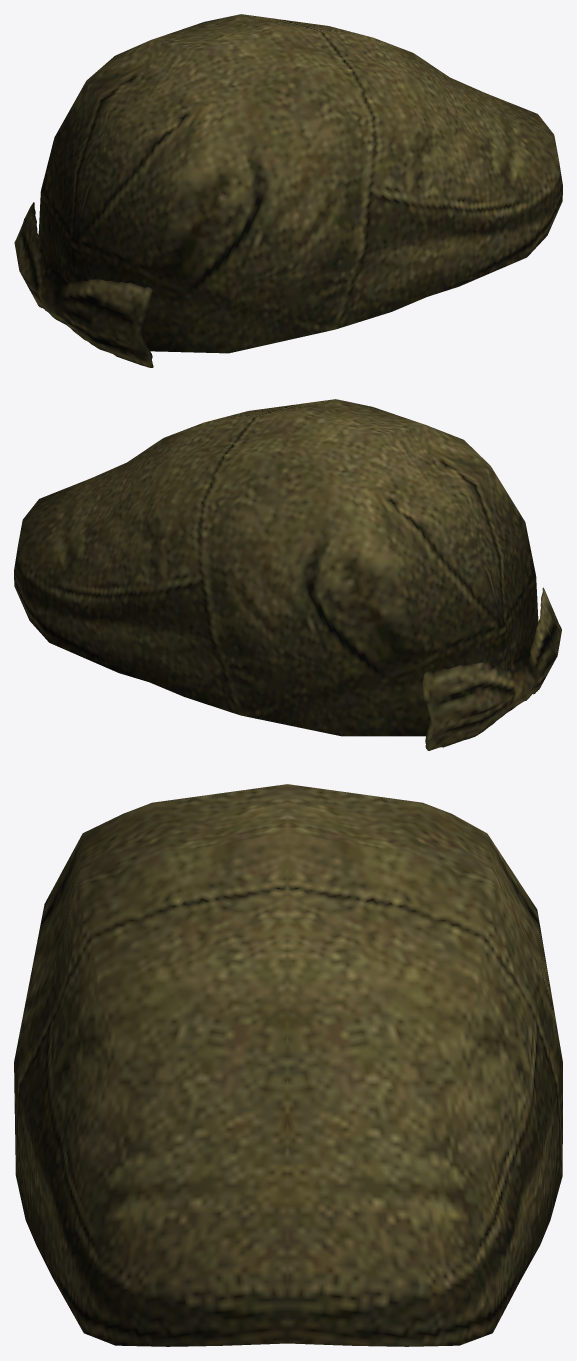
File: hat_0450035.FBX
The picture shows the model from 3 angles, top to bottom: view 1: azimuth 30°, elevation 25°; view 2: azimuth 150°, elevation 25°; view 3: azimuth 270°, elevation 25°; orthographic projection. The views are drawn at different scales.
Parts seen in each view (by area): view 1: hat_0450035; view 2: hat_0450035; view 3: hat_0450035.
Boxes of the visible parts, x1,y1,x2,y2 form: hat_0450035: [14, 14, 562, 367]; hat_0450035: [14, 399, 561, 750]; hat_0450035: [14, 784, 562, 1346].
Size of the model in its own units: 32.18 by 15.6 by 19.51.
